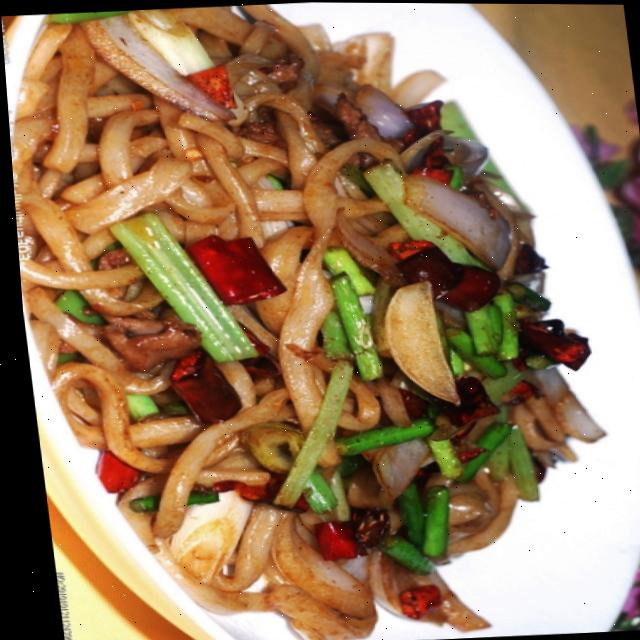面条主食: (0, 0, 610, 640)
